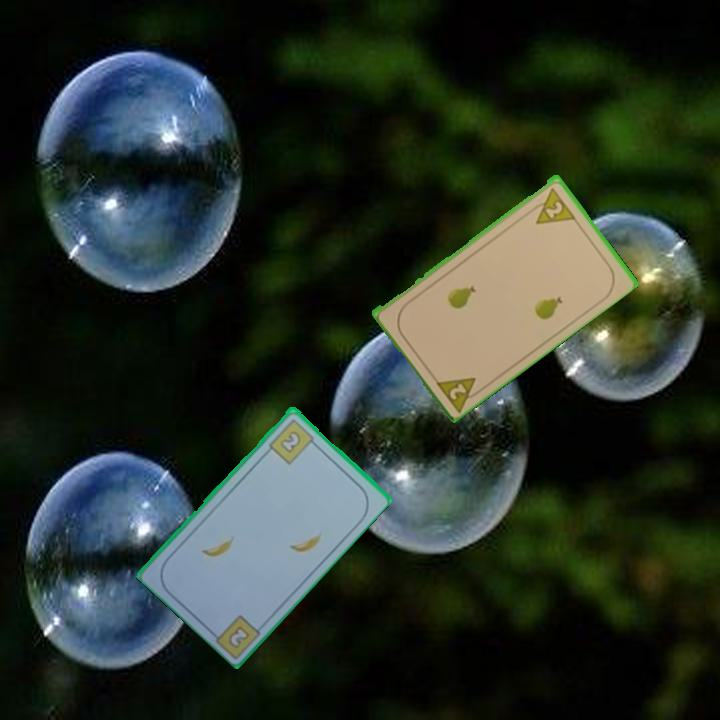2b: (265, 415, 320, 467), (224, 622, 252, 651)
2p: (431, 373, 487, 414), (526, 184, 578, 227)
